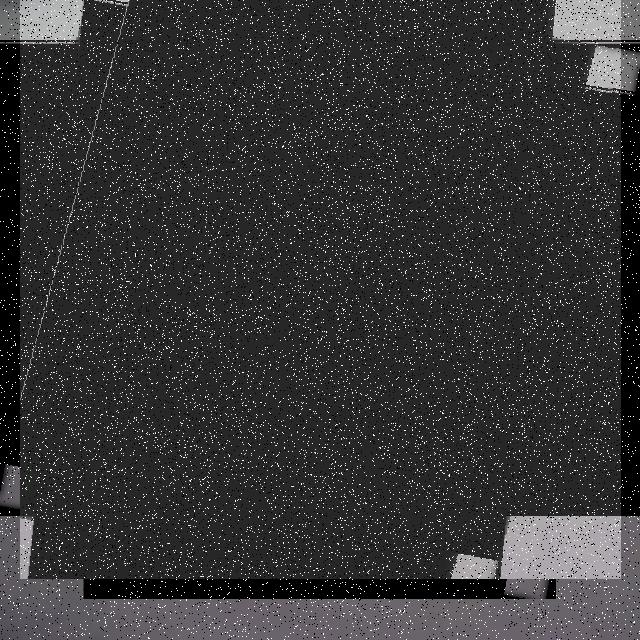dua ribu rupiah: (20, 0, 621, 579)
